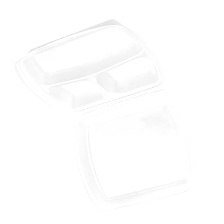foam_box: (8, 15, 203, 218)
